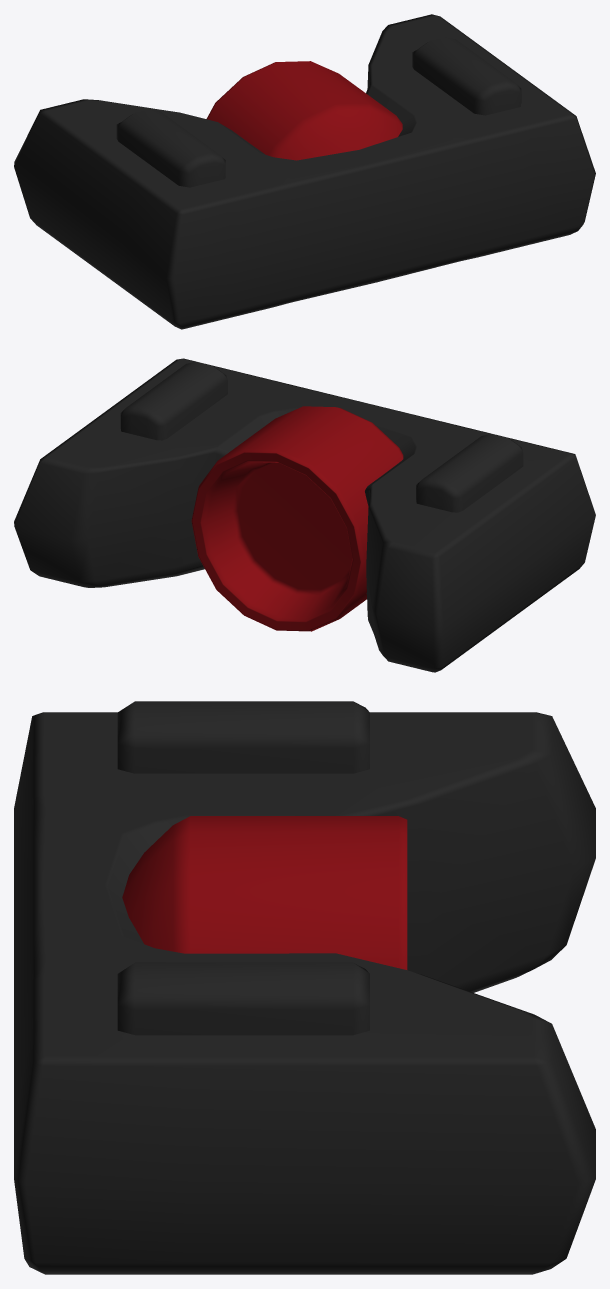
File: Ship_enemy_05_Engine.fbx
The picture shows the model from 3 angles, top to bottom: view 1: azimuth 30°, elevation 25°; view 2: azimuth 150°, elevation 25°; view 3: azimuth 270°, elevation 25°; orthographic projection. The views are drawn at different scales.
Visible parts, largest first — view 1: Ship_enemy_05_Engine; view 2: Ship_enemy_05_Engine; view 3: Ship_enemy_05_Engine.
Boxes of the visible parts, x1,y1,x2,y2 form: Ship_enemy_05_Engine: (14,14,595,329); Ship_enemy_05_Engine: (14,358,595,672); Ship_enemy_05_Engine: (14,701,595,1274).
Bounding box in the file's own units: 197 × 79.6 × 128.
